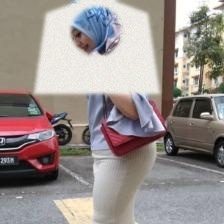Mukena: (33, 0, 160, 94)
